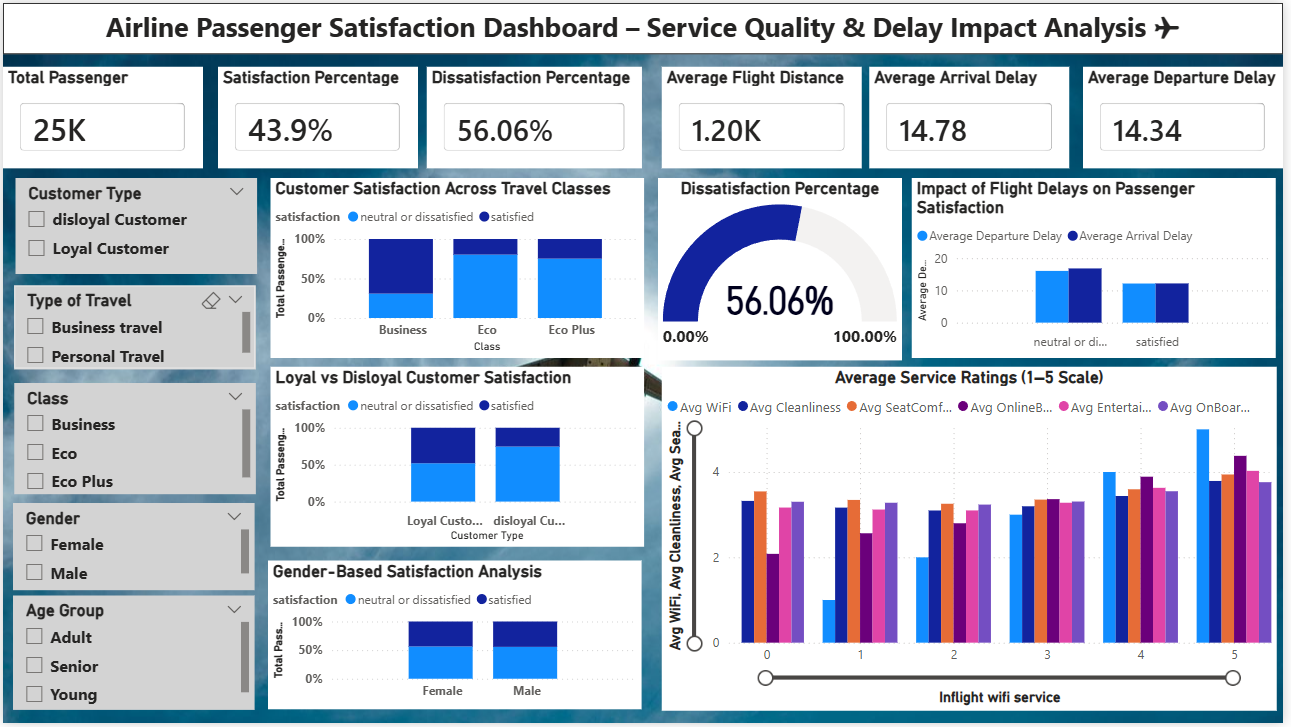

The dashboard page shown, as its layout file describes it:
{"tool":"powerbi","page":{"name":"Page 1","canvas":[1280,720],"ordinal":0},"visuals":[{"type":"slicer","fields":{"Values":["test.Gender"]},"box":[10,499.6,241.2,87.1],"z":0},{"type":"slicer","fields":{"Values":["test.Customer Type"]},"box":[12.8,175.6,241.2,95.6],"z":1000},{"type":"slicer","fields":{"Values":["test.Class"]},"box":[11.4,379.7,241.2,111.3],"z":2000},{"type":"hundredPercentStackedColumnChart","title":"Gender-Based Satisfaction Analysis","fields":{"Category":["test.Gender"],"Series":["test.satisfaction"],"Y":["test.Total Passengers"]},"box":[265.5,558.1,374,148.4],"z":3000},{"type":"hundredPercentStackedColumnChart","title":"Loyal vs Disloyal Customer Satisfaction","fields":{"Category":["test.Customer Type"],"Series":["test.satisfaction"],"Y":["test.Total Passengers"]},"box":[266.9,364,374,179.8],"z":4000},{"type":"hundredPercentStackedColumnChart","title":"Customer Satisfaction Across Travel Classes","fields":{"Category":["test.Class"],"Series":["test.satisfaction"],"Y":["test.Total Passengers"]},"box":[266.9,175.6,374,180],"z":5000},{"type":"clusteredColumnChart","title":"Impact of Flight Delays on Passenger Satisfaction","fields":{"Category":["test.satisfaction"],"Y":["test.Average Departure Delay","test.Average Arrival Delay"]},"box":[909.2,175.6,364,179.8],"z":6000},{"type":"lineClusteredColumnComboChart","title":"Average Service Ratings (1–5 Scale)","fields":{"Category":["test.Inflight wifi service","test.Cleanliness","test.Seat comfort","test.Online boarding","test.Inflight entertainment","test.On-board service"],"Y":["test.Avg WiFi","test.Avg Cleanliness","test.Avg SeatComfort","test.Avg OnlineBoarding","test.Avg Entertainment","test.Avg OnBoardService"]},"box":[658.6,364.3,614.3,342.9],"z":7000},{"type":"textbox","box":[0,0,1280.3,51.4],"z":8000},{"type":"cardVisual","title":"Average Departure Delay","fields":{"Data":["test.Average Departure Delay"]},"box":[1080.5,64.2,199.8,101.3],"z":9000},{"type":"cardVisual","title":"Average Arrival Delay","fields":{"Data":["test.Average Arrival Delay"]},"box":[866.2,63.8,200,101.2],"z":10000},{"type":"cardVisual","title":"Dissatisfaction Percentage","fields":{"Data":["test.Dissatisfaction Percentage"]},"box":[423.8,63.8,215,101.2],"z":11000},{"type":"cardVisual","title":"Satisfaction Percentage","fields":{"Data":["test.Satisfaction Percentage"]},"box":[215.5,64.2,199.8,101.3],"z":12000},{"type":"cardVisual","title":"Total Passenger","fields":{"Data":["test.Total Passengers"]},"box":[0,64.2,199.8,101.3],"z":13000},{"type":"cardVisual","title":"Average Flight Distance","fields":{"Data":["test.Average Flight Distance"]},"box":[658.8,63.8,200,101.2],"z":14000},{"type":"slicer","fields":{"Values":["test.Type of Travel"]},"box":[11.4,282.6,241.2,84.2],"z":15000},{"type":"gauge","fields":{"Y":["test.Dissatisfaction Percentage"]},"box":[655.1,175.6,244.1,182.7],"z":16000},{"type":"slicer","fields":{"Values":["test.Age Group"]},"box":[10,592.3,241.2,114.2],"z":17000}]}

Visuals, with their boxes in screenshot pixels (x1, y1, x2, y2), scaled from the page's 1280x720 canvas onto the 1291x727 screenshot:
slicer - test.Gender: (left=10, top=504, right=253, bottom=592)
slicer - test.Customer Type: (left=13, top=177, right=256, bottom=274)
slicer - test.Class: (left=11, top=383, right=255, bottom=496)
"Gender-Based Satisfaction Analysis" hundredPercentStackedColumnChart: (left=268, top=564, right=645, bottom=713)
"Loyal vs Disloyal Customer Satisfaction" hundredPercentStackedColumnChart: (left=269, top=368, right=646, bottom=549)
"Customer Satisfaction Across Travel Classes" hundredPercentStackedColumnChart: (left=269, top=177, right=646, bottom=359)
"Impact of Flight Delays on Passenger Satisfaction" clusteredColumnChart: (left=917, top=177, right=1284, bottom=359)
"Average Service Ratings (1–5 Scale)" lineClusteredColumnComboChart: (left=664, top=368, right=1284, bottom=714)
textbox: (left=0, top=0, right=1290, bottom=52)
"Average Departure Delay" cardVisual: (left=1090, top=65, right=1290, bottom=167)
"Average Arrival Delay" cardVisual: (left=874, top=64, right=1075, bottom=167)
"Dissatisfaction Percentage" cardVisual: (left=427, top=64, right=644, bottom=167)
"Satisfaction Percentage" cardVisual: (left=217, top=65, right=419, bottom=167)
"Total Passenger" cardVisual: (left=0, top=65, right=202, bottom=167)
"Average Flight Distance" cardVisual: (left=664, top=64, right=866, bottom=167)
slicer - test.Type of Travel: (left=11, top=285, right=255, bottom=370)
gauge - test.Dissatisfaction Percentage: (left=661, top=177, right=907, bottom=362)
slicer - test.Age Group: (left=10, top=598, right=253, bottom=713)
